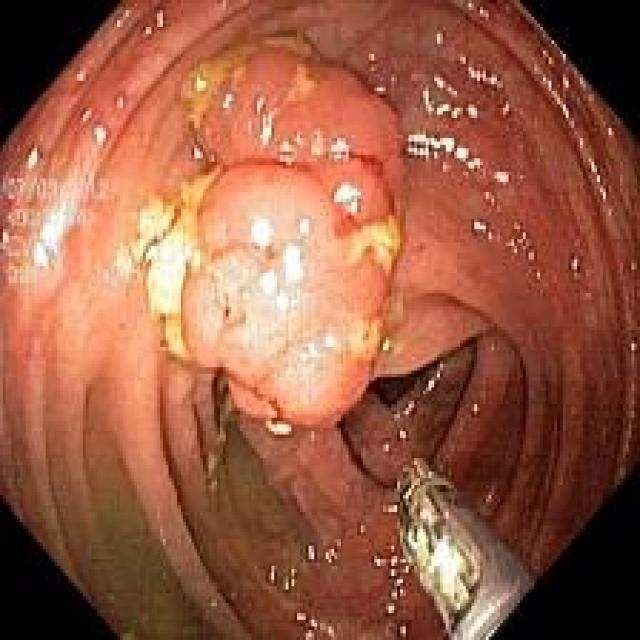Polyps: (165, 41, 404, 433)
